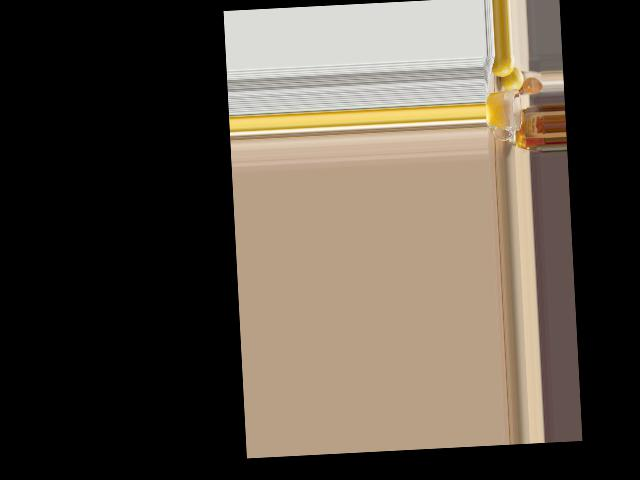lemon: (492, 55, 512, 75)
